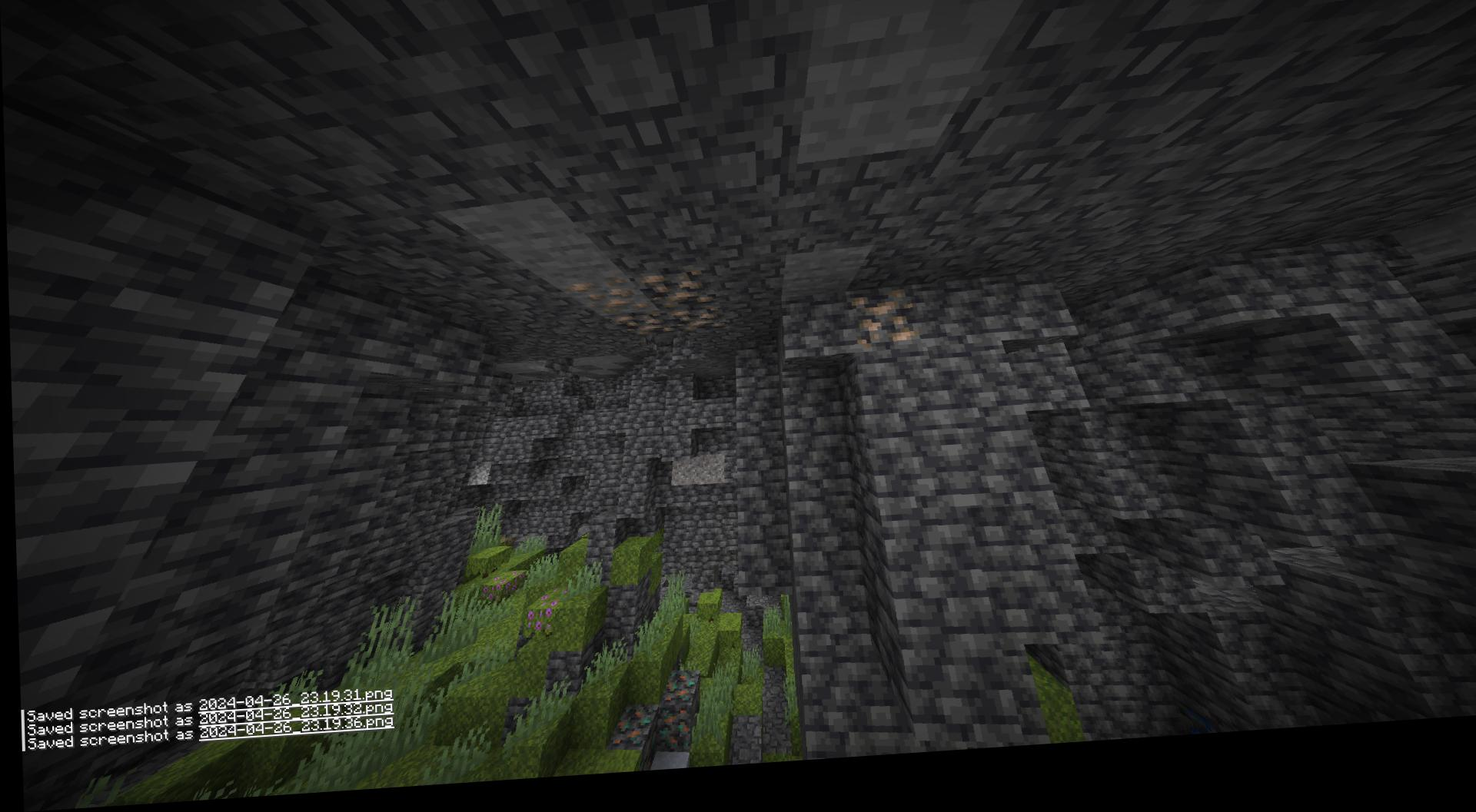iron ore: (567, 270, 721, 353), (843, 295, 916, 358)
